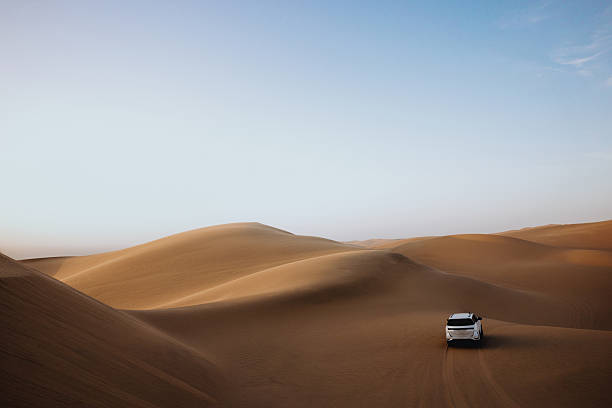vehicle_track: (442, 346, 519, 407), (477, 348, 519, 407)
